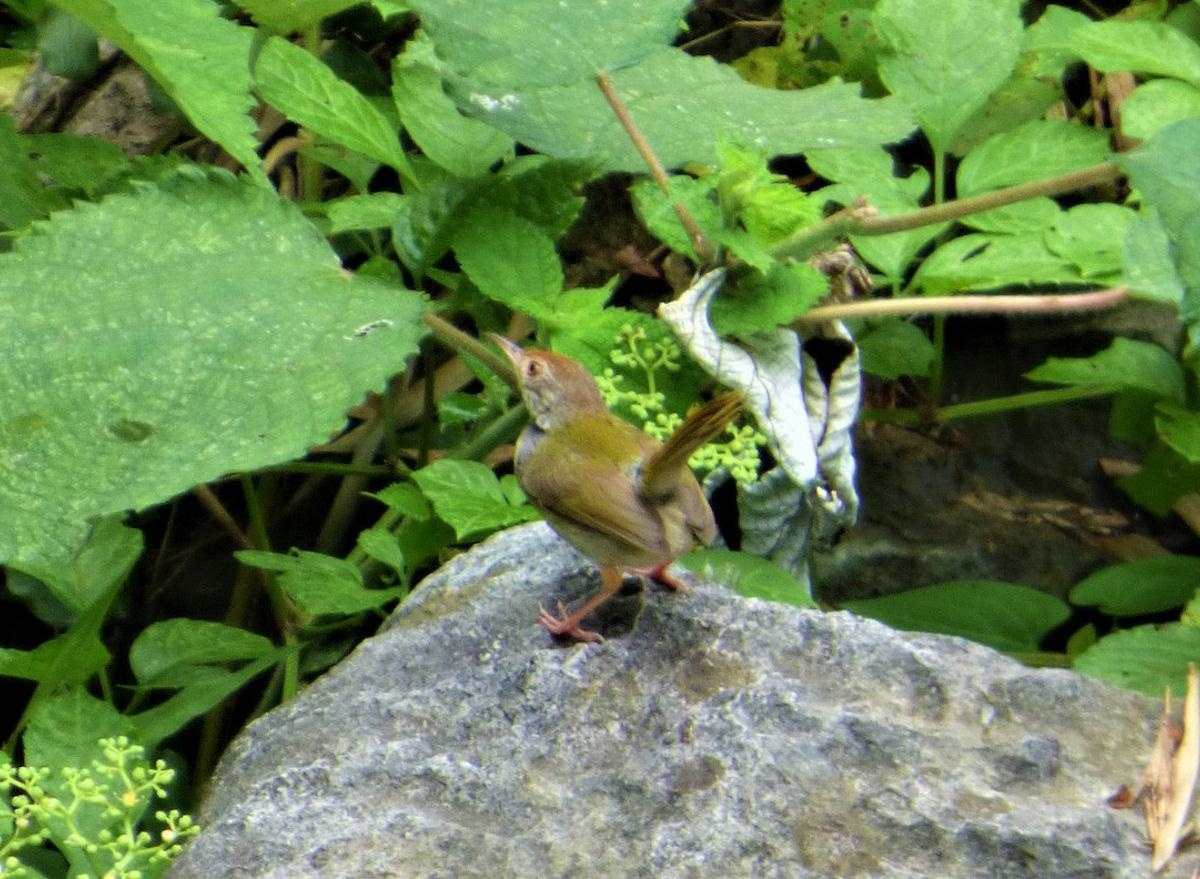tailorbird: (484, 301, 770, 636)
